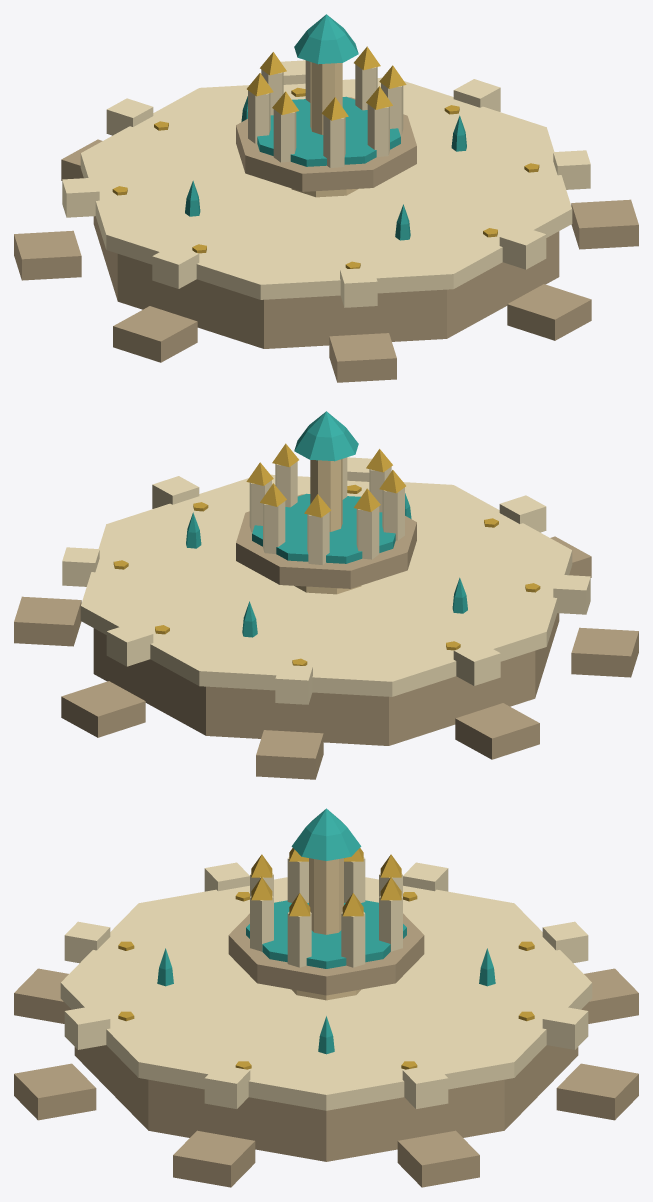
Rendered from fountain_round.fbx.
3 views of the same model, one above another, from view 1: azimuth 30°, elevation 25°; view 2: azimuth 150°, elevation 25°; view 3: azimuth 270°, elevation 25° (orthographic). The views are drawn at different scales.
Parts seen in each view (by area): view 1: fountain_round; view 2: fountain_round; view 3: fountain_round.
Part boxes in pixels (x1=…): fountain_round: x1=14, y1=14, x2=638, y2=382; fountain_round: x1=14, y1=411, x2=638, y2=779; fountain_round: x1=14, y1=808, x2=638, y2=1187.
Bounding box in the file's own units: 8.94 × 3.9 × 8.94.
1 material, 1 textured.
